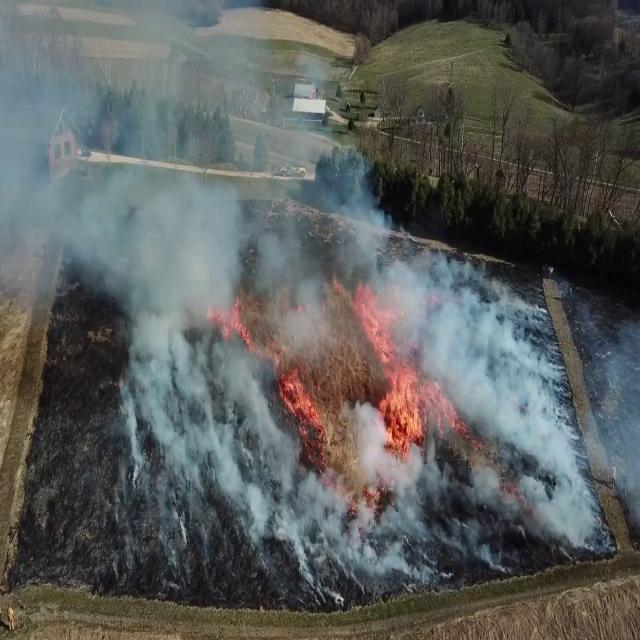Fire: (281, 291, 432, 471)
Smoke: (1, 6, 437, 582), (398, 233, 606, 557)
